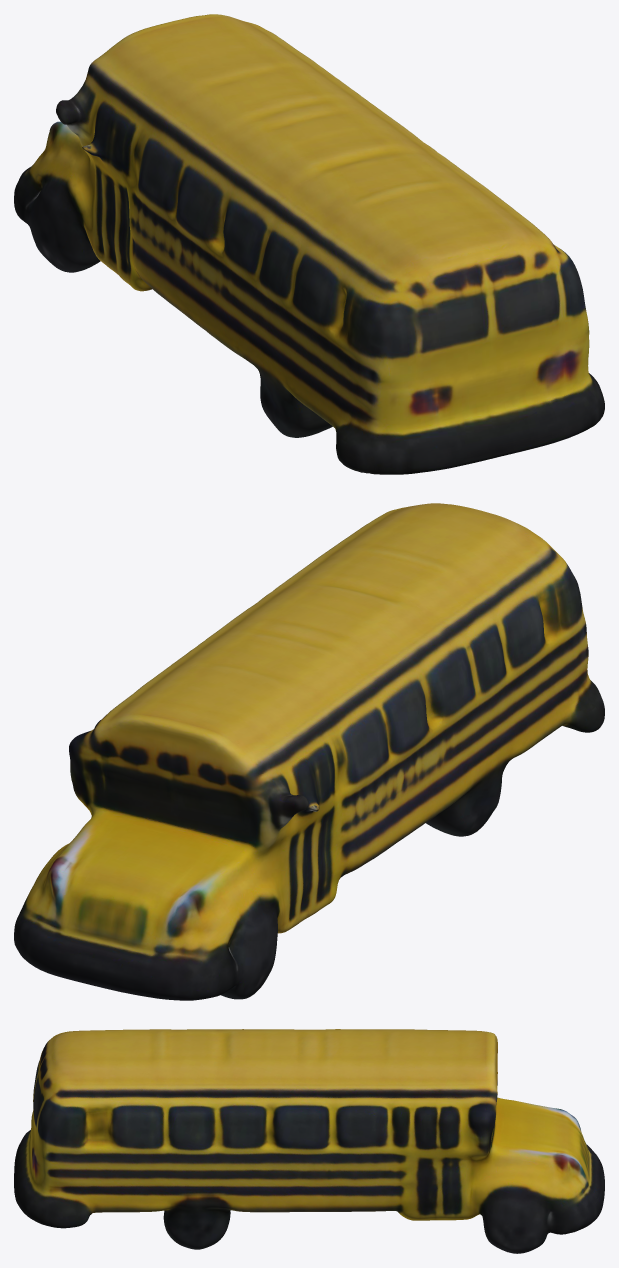
File: a38996ea598d_school_bus_yellow__.fbx
3 renders of one model, top to bottom at view 1: azimuth 30°, elevation 25°; view 2: azimuth 150°, elevation 25°; view 3: azimuth 270°, elevation 25°, orthographic. The views are drawn at different scales.
Parts seen in each view (by area): view 1: high_poly; view 2: high_poly; view 3: high_poly.
Boxes of the visible parts, left/top/right/bottom form: high_poly: left=14, top=14, right=604, bottom=474; high_poly: left=14, top=503, right=604, bottom=1000; high_poly: left=14, top=1029, right=604, bottom=1253.
Size of the model in its own units: 36.23 by 32.51 by 100.
